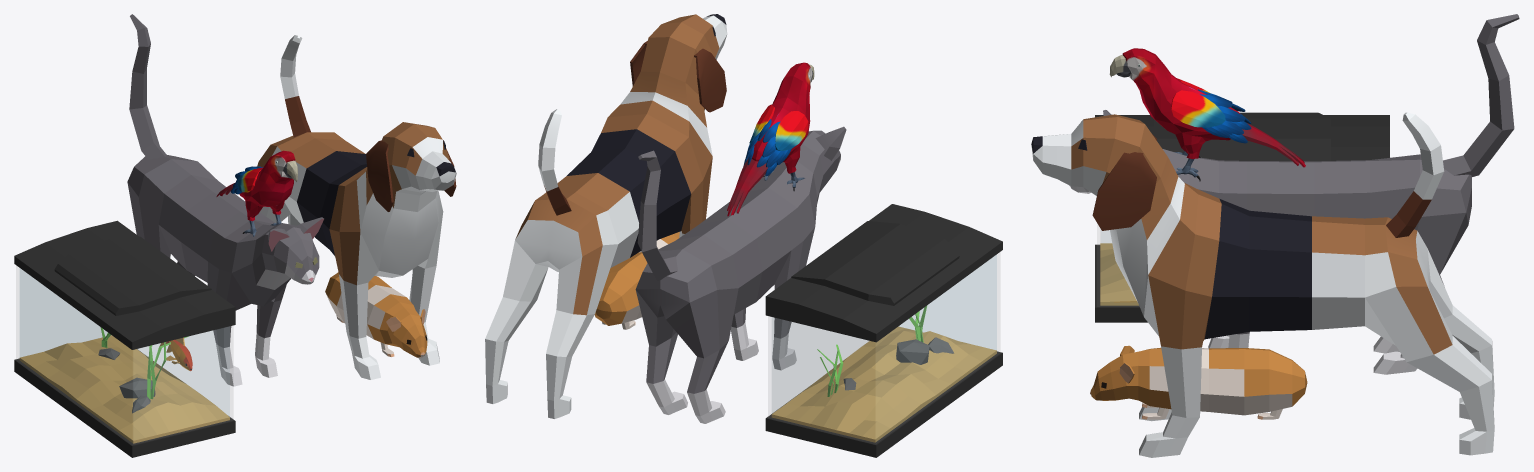
The picture shows the model from 3 angles, left to right: view 1: azimuth 30°, elevation 25°; view 2: azimuth 150°, elevation 25°; view 3: azimuth 270°, elevation 25°; orthographic projection. The views are drawn at different scales.
Visible parts, largest first — view 1: Fish_Tank_Cube.003, Geo_Beagle, Geo_Cat, Geo_Hamster, Node, Geo_Goldfish; view 2: Fish_Tank_Cube.003, Geo_Beagle, Geo_Cat, Node, Geo_Hamster; view 3: Geo_Beagle, Geo_Cat, Fish_Tank_Cube.003, Geo_Hamster, Node.
Boxes of the visible parts, x1,y1,x2,y2 form: Fish_Tank_Cube.003: (14,220,235,457); Geo_Beagle: (257,35,456,379); Geo_Cat: (127,14,323,386); Geo_Hamster: (325,272,427,358); Node: (216,150,297,236); Geo_Goldfish: (159,337,192,371); Fish_Tank_Cube.003: (765,204,1002,457); Geo_Beagle: (485,14,727,418); Geo_Cat: (635,126,846,423); Node: (727,62,814,216); Geo_Hamster: (594,232,679,329); Geo_Beagle: (1031,112,1494,457); Geo_Cat: (1069,14,1519,374); Fish_Tank_Cube.003: (1095,112,1389,322); Geo_Hamster: (1090,345,1307,419); Node: (1109,48,1305,181).
Bounding box in the file's own units: 26.84 × 21.15 × 26.84.
Materials: 12 (5 with a texture image).
